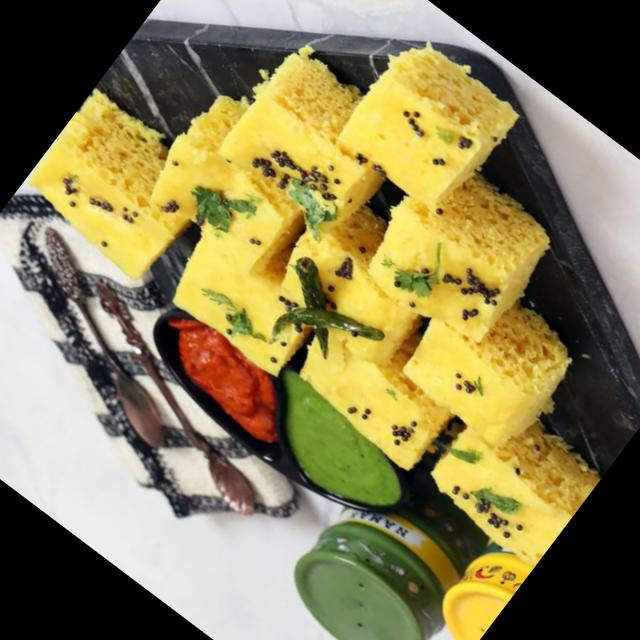dhokla: (17, 0, 640, 573)
